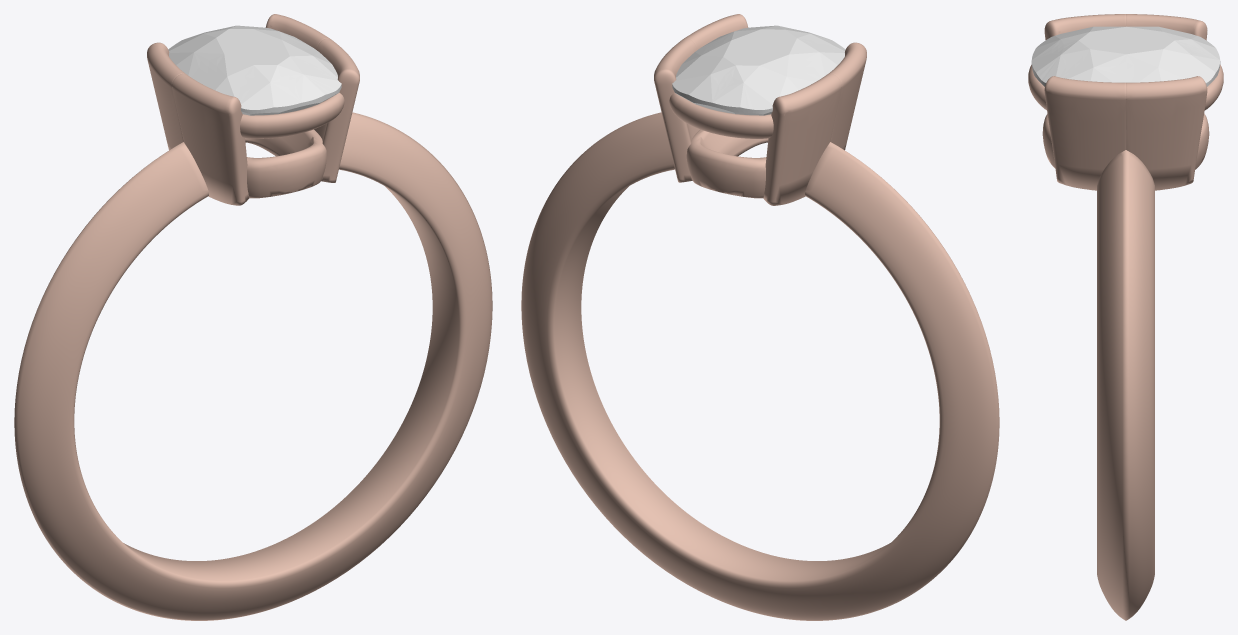
File: diamond-cushion-rosegold-halfmoonbezel-knifeedge-nosidestones.glb
The picture shows the model from 3 angles, left to right: view 1: azimuth 30°, elevation 25°; view 2: azimuth 150°, elevation 25°; view 3: azimuth 270°, elevation 25°; orthographic projection. The views are drawn at different scales.
Visible parts, largest first — view 1: metal.002, stone; view 2: metal.002, stone; view 3: metal.002, stone.
Boxes of the visible parts, x1,y1,x2,y2 form: metal.002: (14,14,492,620); stone: (168,25,341,115); metal.002: (521,14,999,620); stone: (672,25,845,115); metal.002: (1028,14,1223,620); stone: (1031,26,1220,86).
Bounding box in the file's own units: 20.5 × 23.24 × 7.42.
